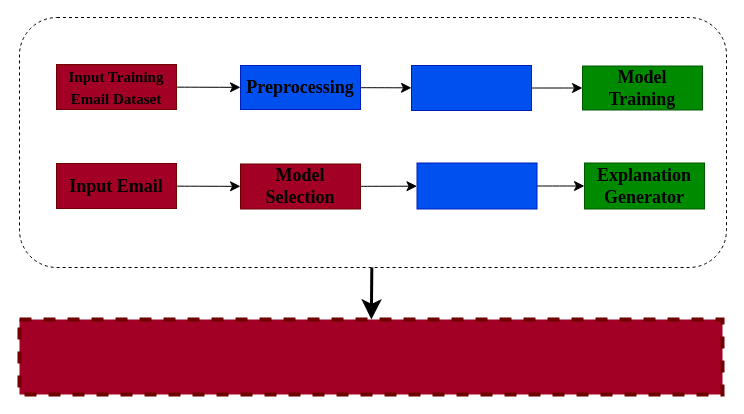
Some shapes in this 744 by 414 pixel diagram are drawn without their labels. The box of each missing label's shape, as (x1, y1, x2, y2) in pixels:
Feature Extraction: (410, 64, 532, 110)
GUI (Graphical User Interface): (17, 317, 724, 396)
Phishing Predicition: (416, 162, 537, 209)
